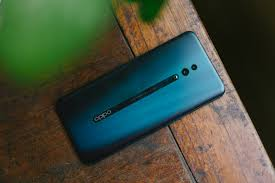oppo: (52, 23, 227, 166)
